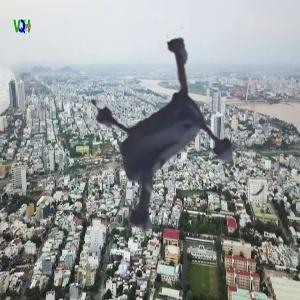drone: (61, 59, 274, 272)
